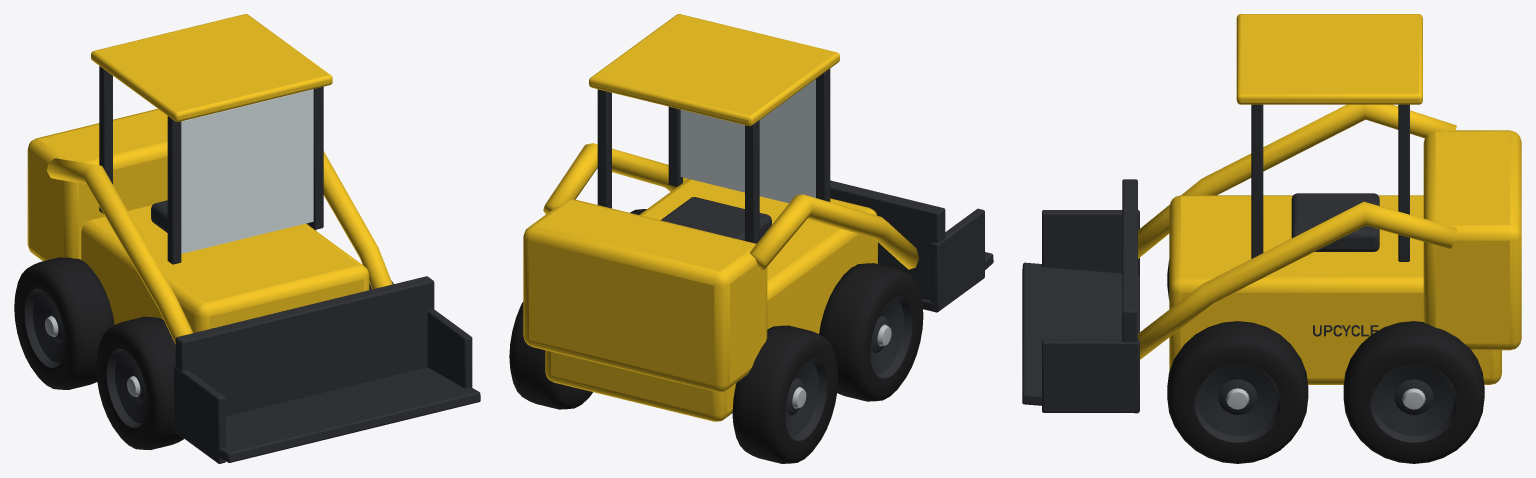
The model's file is skid_steer.fbx.
The picture shows the model from 3 angles, left to right: view 1: azimuth 30°, elevation 25°; view 2: azimuth 150°, elevation 25°; view 3: azimuth 270°, elevation 25°; orthographic projection. The views are drawn at different scales.
Visible parts, largest first — view 1: skid_steer; view 2: skid_steer; view 3: skid_steer.
Part boxes in pixels (x1,y1,x2,y2): skid_steer: (14,14,480,463); skid_steer: (509,14,993,463); skid_steer: (1022,14,1521,463).
Size of the model in its own units: 1.64 by 1.95 by 2.55.
